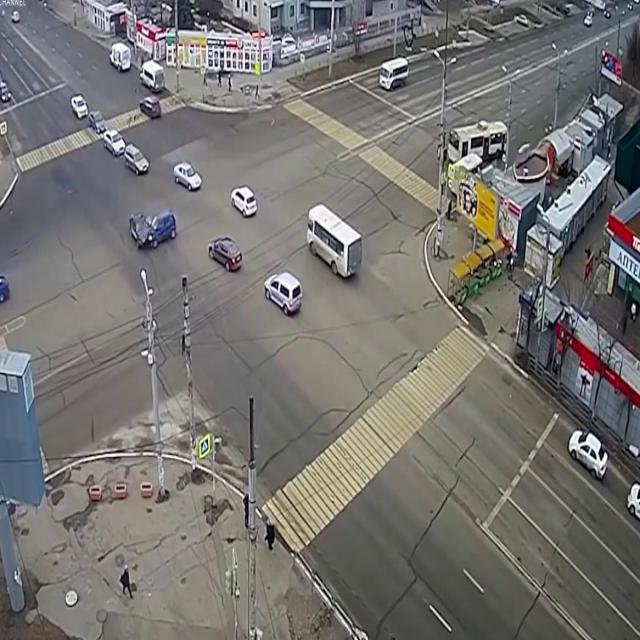accident: (122, 195, 182, 265)
non_accident: (71, 87, 156, 188), (0, 248, 17, 316)
